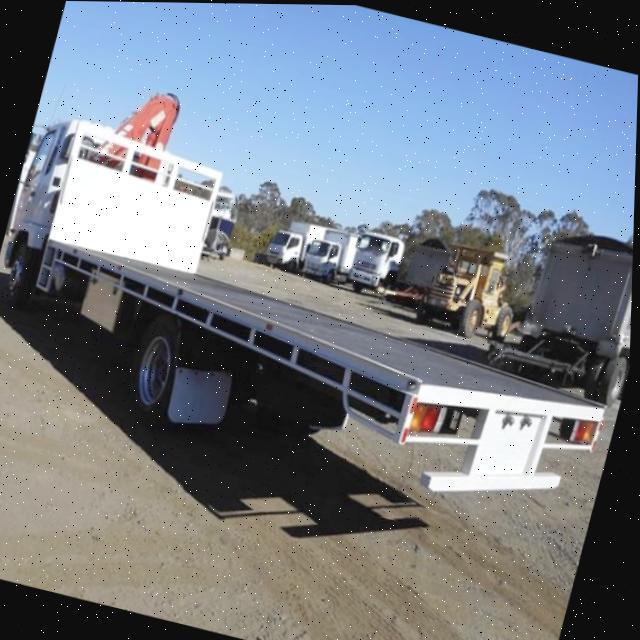truck: (0, 58, 639, 569)
